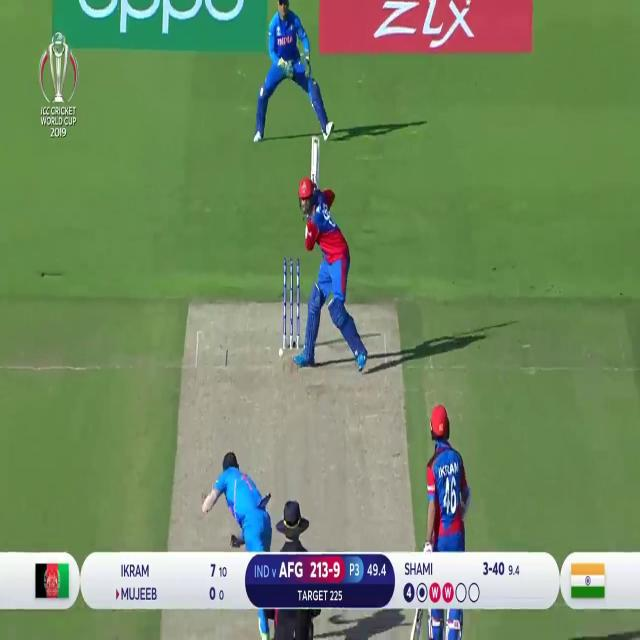ball: (278, 345, 284, 356)
